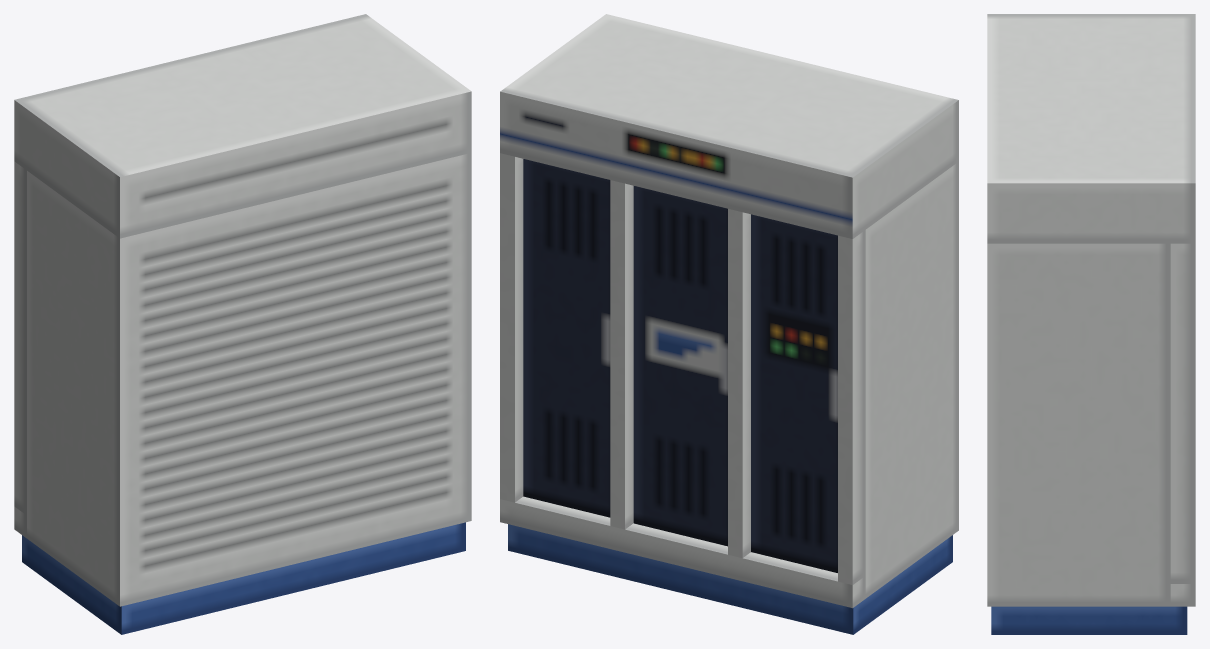
Rendered from era4_disk_processor.obj.
The picture shows the model from 3 angles, left to right: view 1: azimuth 30°, elevation 25°; view 2: azimuth 150°, elevation 25°; view 3: azimuth 270°, elevation 25°; orthographic projection.
Visible parts, largest first — view 1: era4_disk_processor; view 2: era4_disk_processor; view 3: era4_disk_processor.
Boxes of the visible parts, x1,y1,x2,y2 form: era4_disk_processor: (14, 14, 471, 634); era4_disk_processor: (500, 14, 958, 634); era4_disk_processor: (987, 14, 1195, 634).
Size of the model in its own units: 3 by 3.75 by 1.56.
